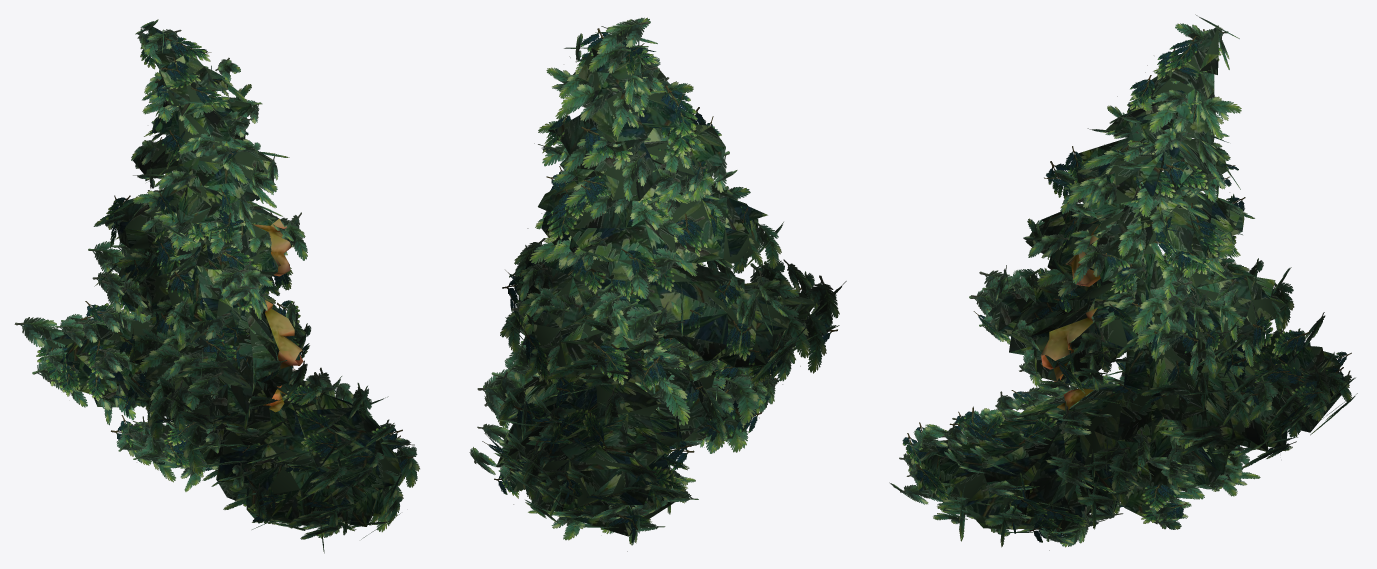
The model's file is pine_2.glb.
The picture shows the model from 3 angles, left to right: view 1: azimuth 30°, elevation 25°; view 2: azimuth 150°, elevation 25°; view 3: azimuth 270°, elevation 25°; orthographic projection. The views are drawn at different scales.
Parts seen in each view (by area): view 1: Fable_pine_2; view 2: Fable_pine_2; view 3: Fable_pine_2.
Boxes of the visible parts, x1=… form: Fable_pine_2: x1=14, y1=19, x2=419, y2=553; Fable_pine_2: x1=469, y1=17, x2=846, y2=551; Fable_pine_2: x1=889, y1=14, x2=1357, y2=550.
Bounding box in the file's own units: 4.73 × 7.38 × 6.81.
Materials: 2 (2 with a texture image).
